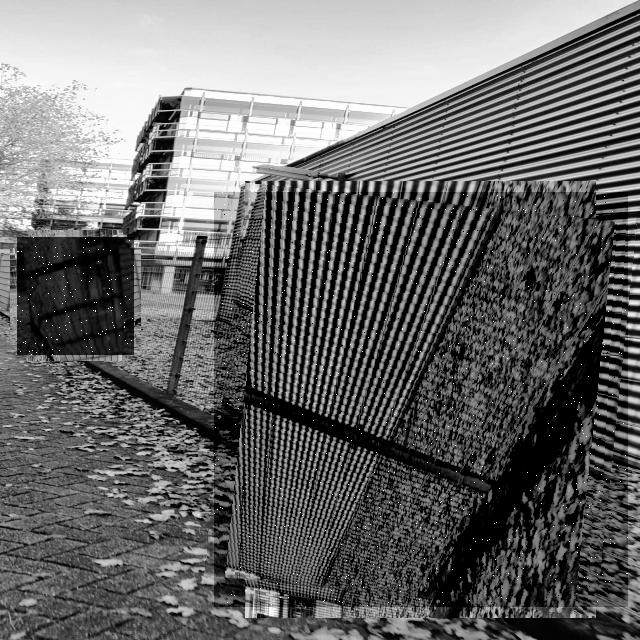fences: (214, 192, 628, 607), (17, 237, 134, 355)
